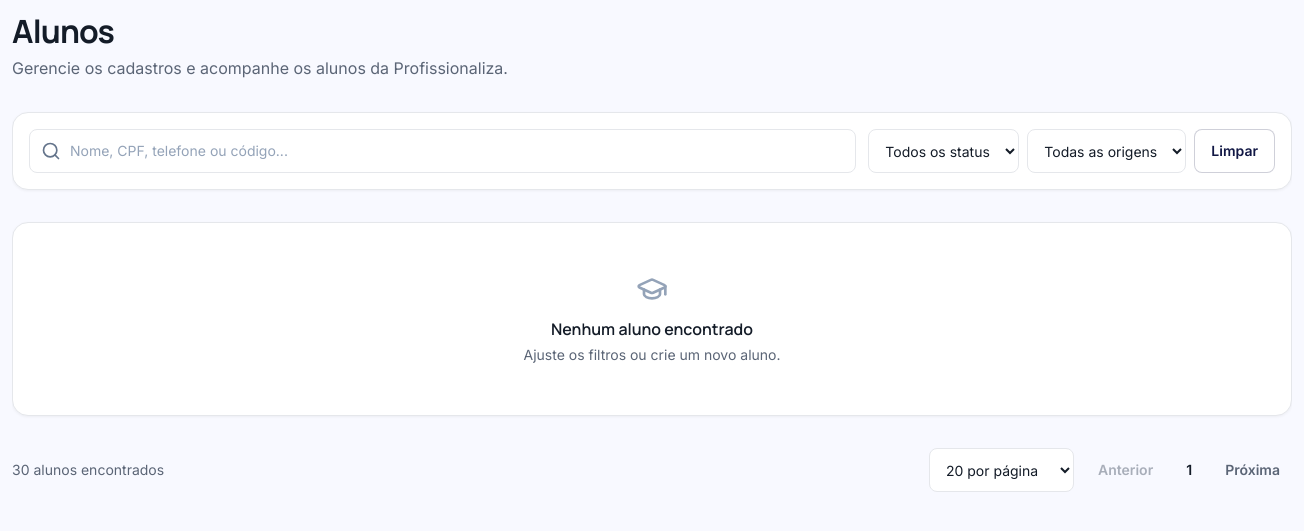
Test: StudentsPage — persistência de filtros na URL (Fase 7) › alterar filtro atualiza a URL
Select "Ativo" in the dropdown named "Filtrar por status": (944, 151) x1=868 y1=129 x2=1019 y2=173
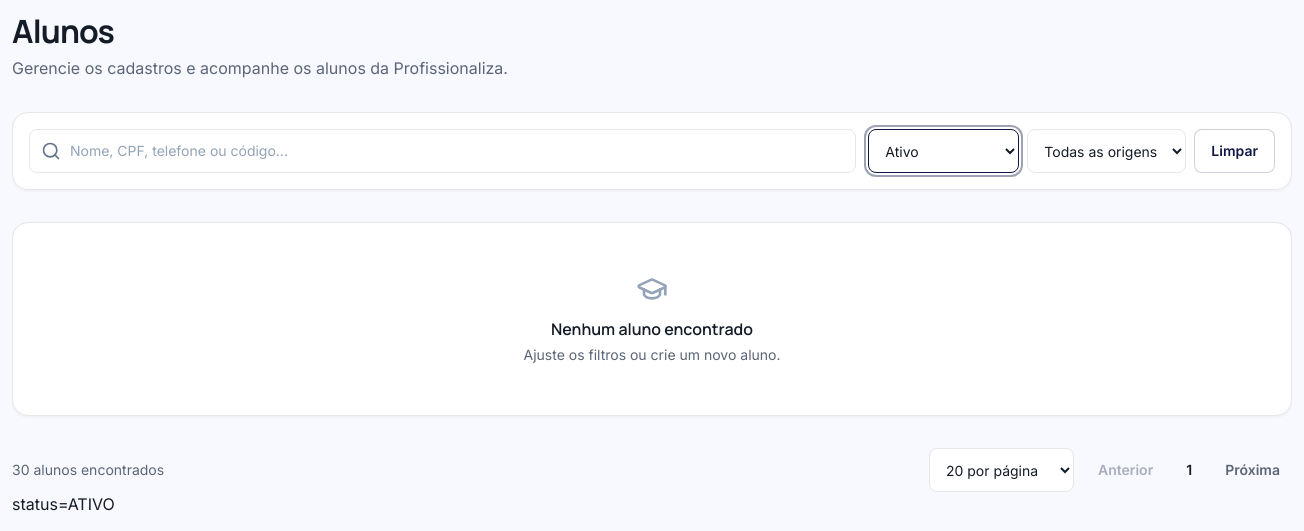
expect the text with test id "location-search" reads "status=ATIVO": met, box x1=12 y1=494 x2=115 y2=514
Select "Todos os status" in the dropdown named "Filtrar por status": (944, 151) x1=868 y1=129 x2=1019 y2=173
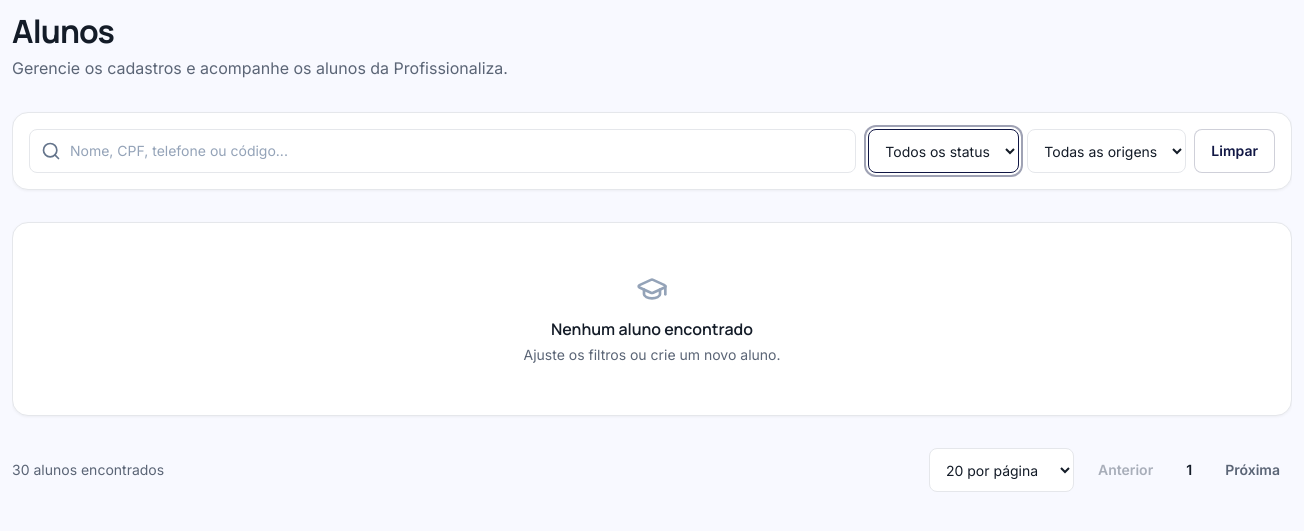
expect the text with test id "location-search" no longer shows "status=": met
